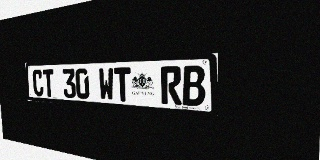0: (75, 68, 90, 99)
3: (62, 69, 76, 98)
B: (182, 65, 205, 107)
C: (32, 69, 44, 96)
R: (160, 66, 182, 105)
T: (114, 67, 131, 102), (42, 69, 55, 97)
W: (98, 68, 115, 101)
